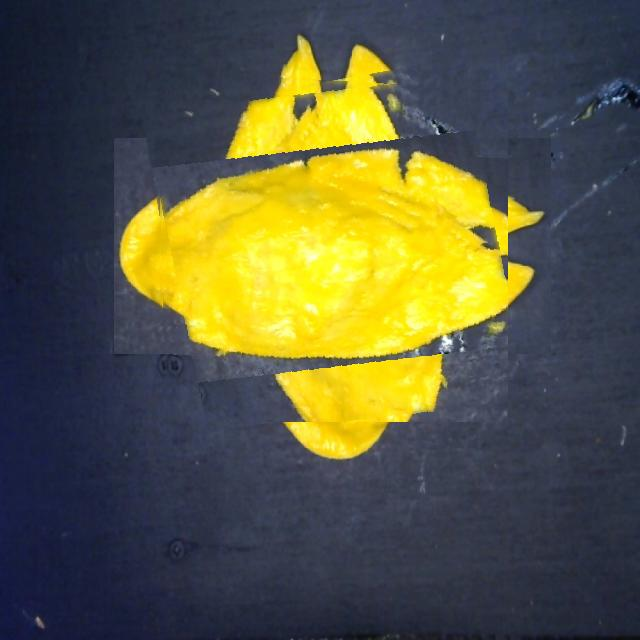biodegradable: (156, 70, 508, 422)
